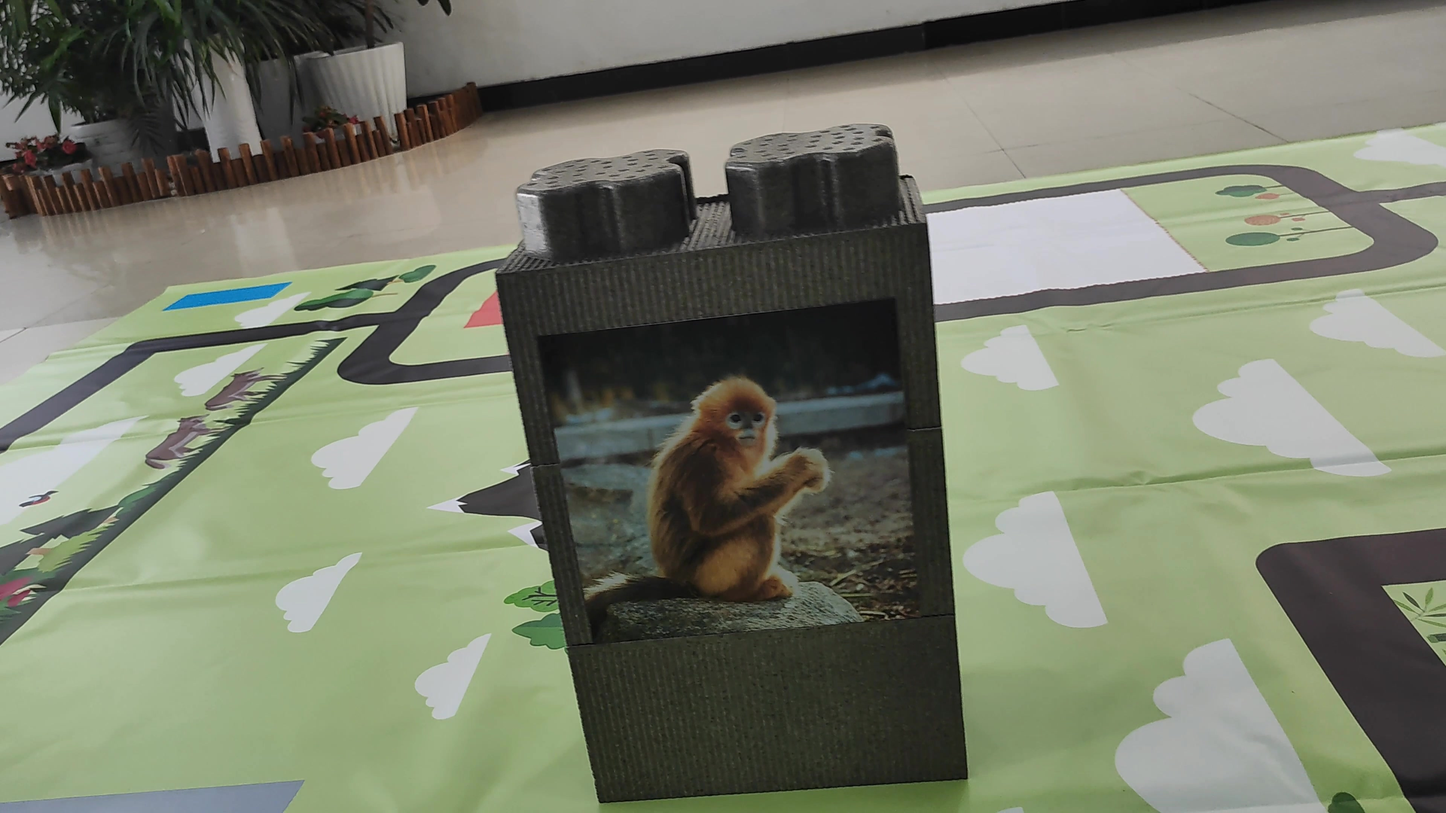monkey: (578, 355, 845, 623)
